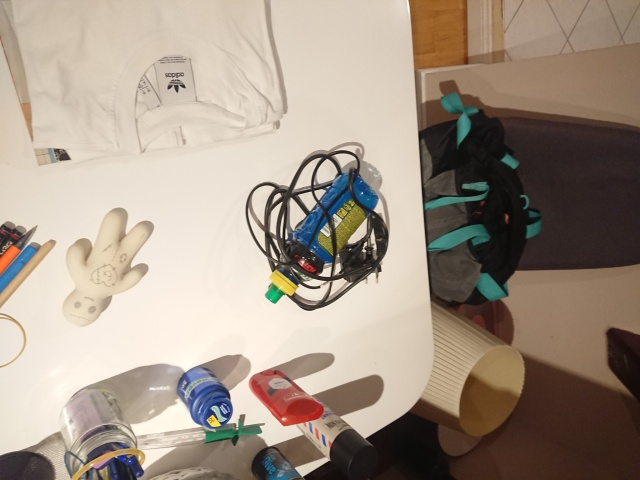Vindi Iso Sport Forest Strawberries 500mL: (263, 170, 380, 304)
